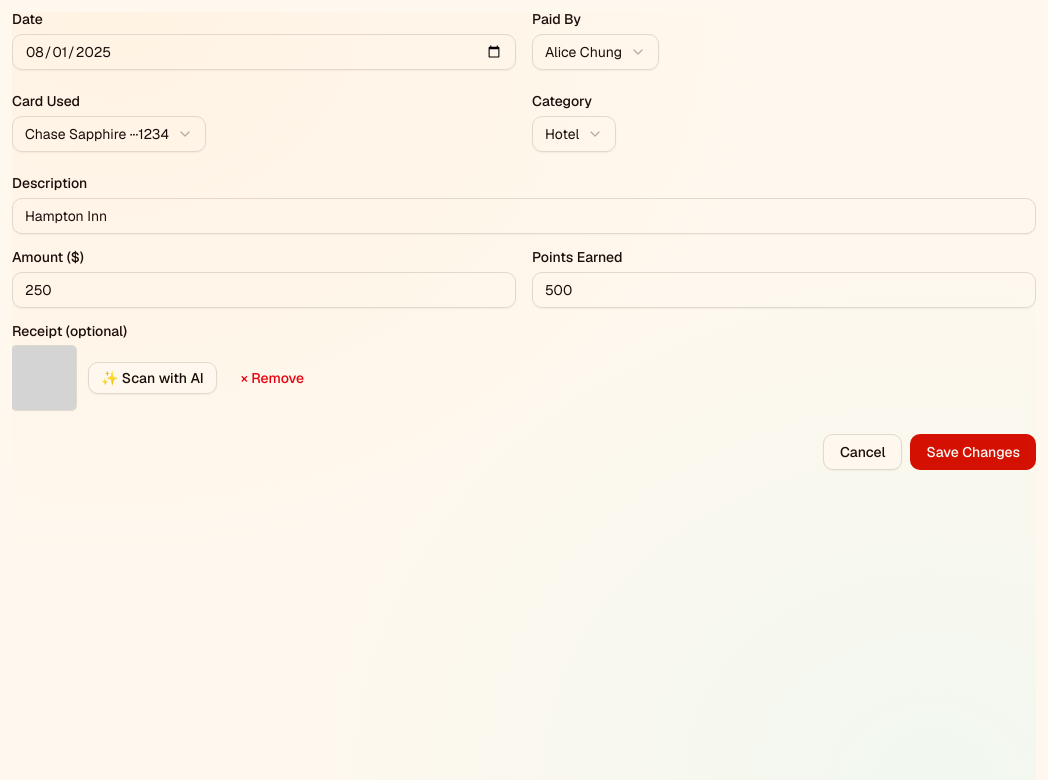
Test: Receipt UI — with existing receiptPath › scan fills fields on success
Click the button "✨ Scan with AI".
click(152, 378)  # box 88,362 -> 217,394
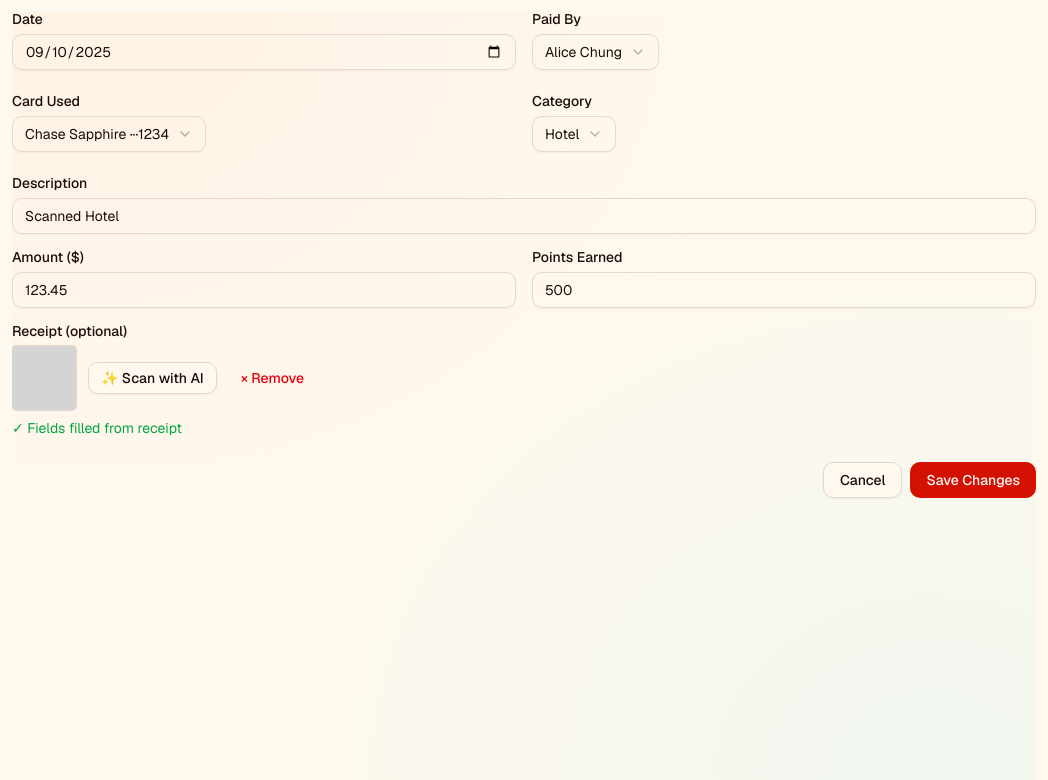
Result: the text "✓ Fields filled from receipt" is shown at 12,419 -> 182,437
Result: the field labelled "Description" holds "Scanned Hotel" at 12,198 -> 1036,234
Result: the number field labelled "Amount ($)" holds "123.45" at 12,272 -> 516,308
